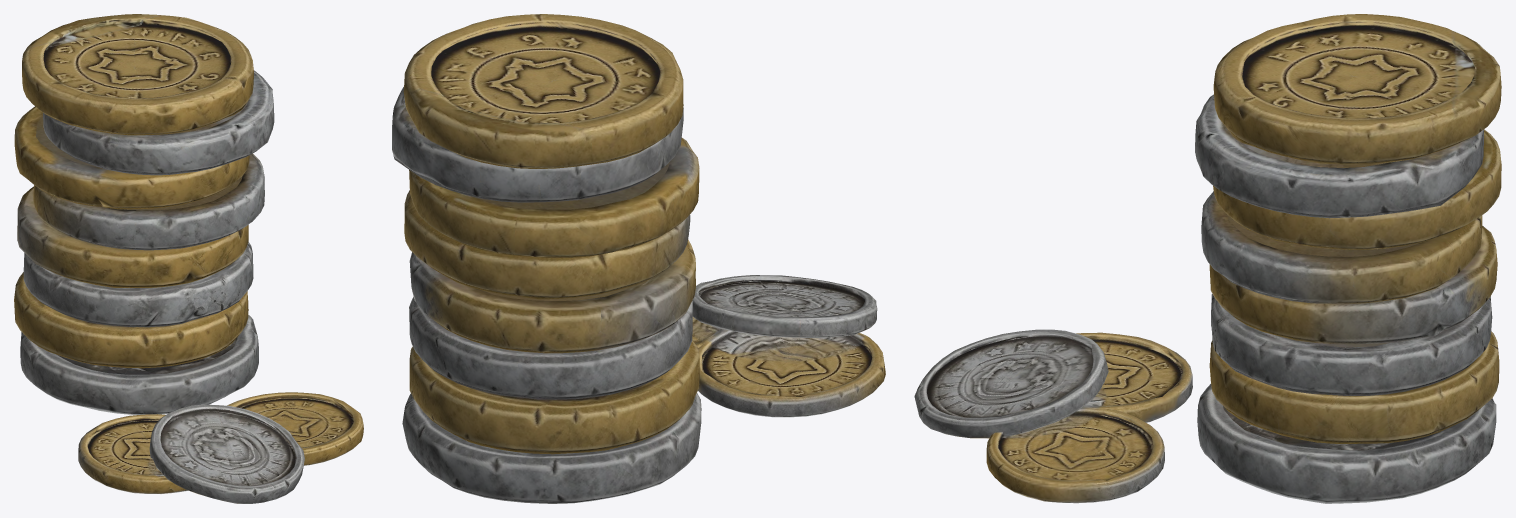
File: coin_stack.glb
3 views of the same model, side by side, from view 1: azimuth 30°, elevation 25°; view 2: azimuth 150°, elevation 25°; view 3: azimuth 270°, elevation 25° (orthographic). The views are drawn at different scales.
Size of the model in its own units: 0.6249 by 0.6763 by 0.9575.
1 material, 1 textured.
